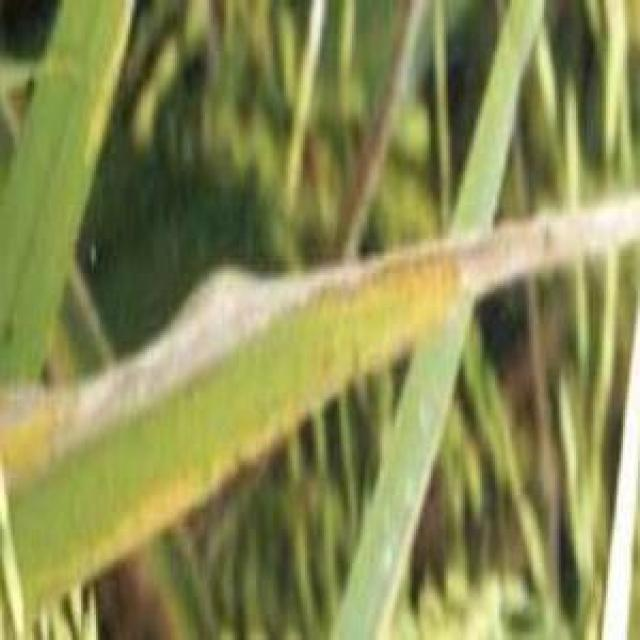Bacterial_Blight: (2, 239, 457, 368)
